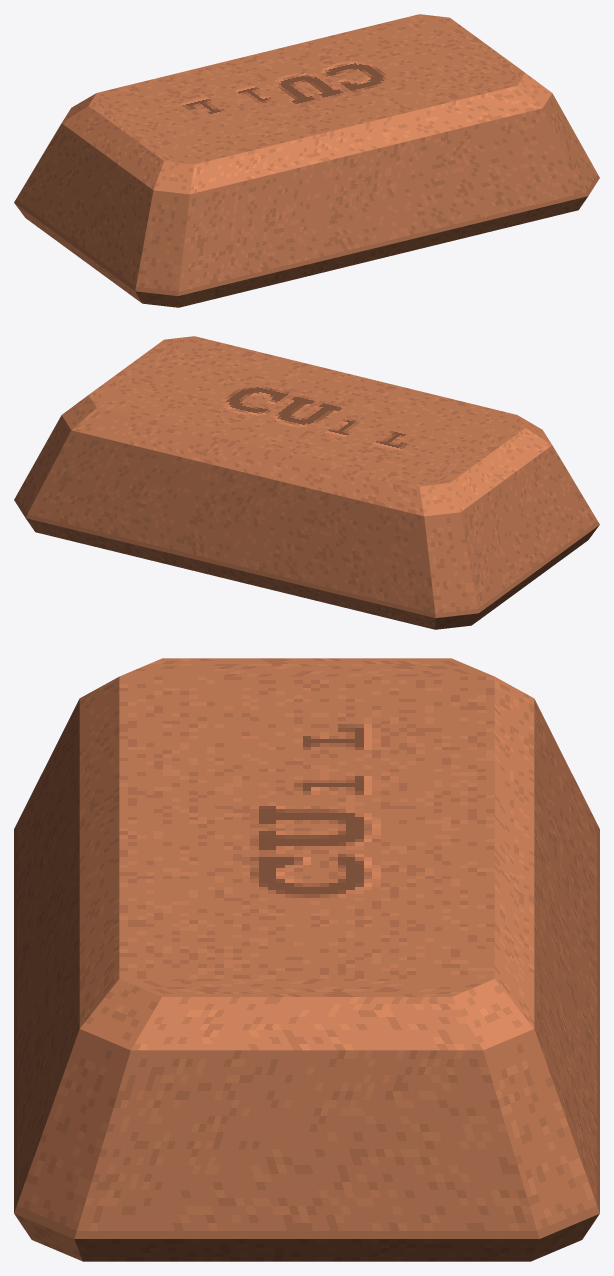
The model's file is 1l_copper.glb.
The picture shows the model from 3 angles, top to bottom: view 1: azimuth 30°, elevation 25°; view 2: azimuth 150°, elevation 25°; view 3: azimuth 270°, elevation 25°; orthographic projection. The views are drawn at different scales.
Visible parts, largest first — view 1: block_one-piece cast ingot; view 2: block_one-piece cast ingot; view 3: block_one-piece cast ingot.
Boxes of the visible parts, bbox=[...] form: block_one-piece cast ingot: bbox=[14, 14, 599, 307]; block_one-piece cast ingot: bbox=[14, 336, 599, 629]; block_one-piece cast ingot: bbox=[14, 658, 599, 1261].
Size of the model in its own units: 0.181 by 0.0436 by 0.103.
Materials: 1 (1 with a texture image).
